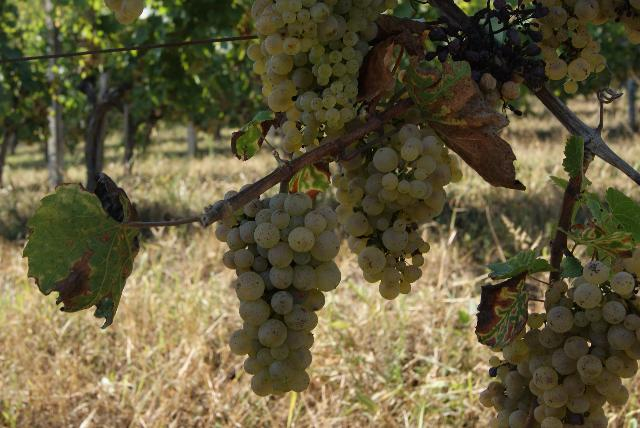grapes: (480, 260, 640, 428), (225, 194, 340, 396), (332, 121, 462, 299), (248, 0, 386, 132), (539, 0, 605, 94)
